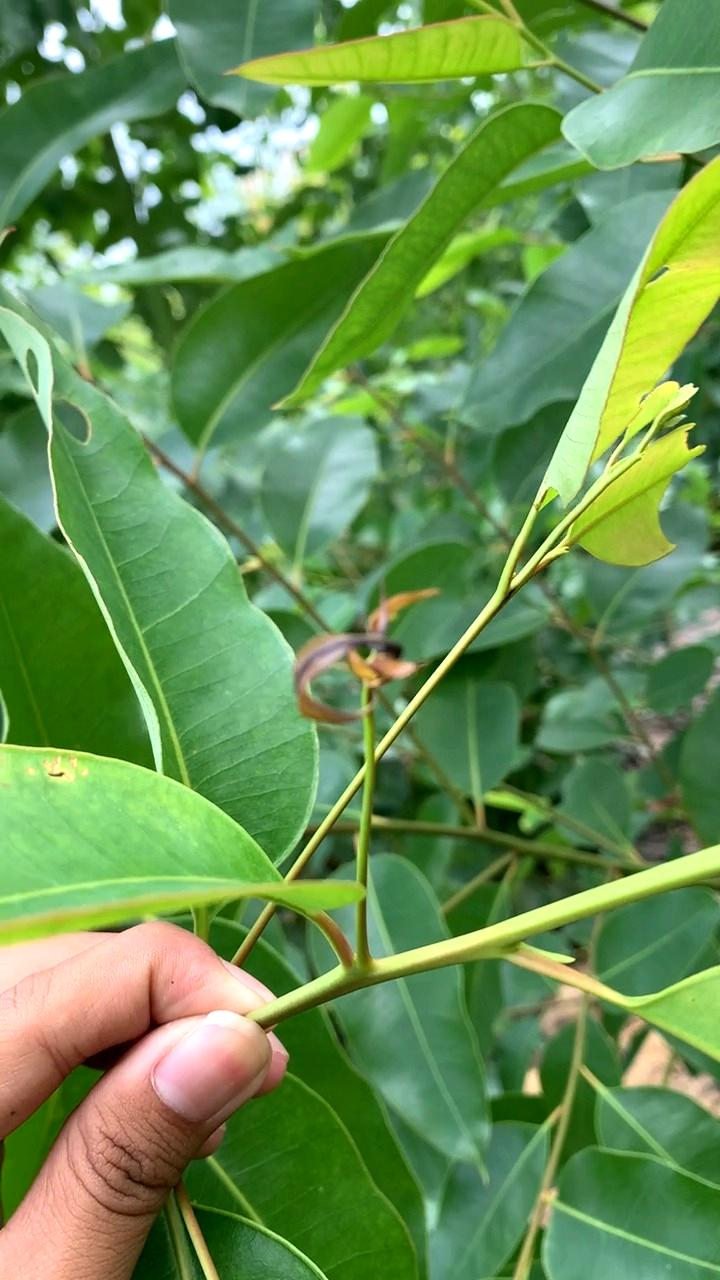Helopeltis-Withered Sprout: (281, 583, 455, 739)
